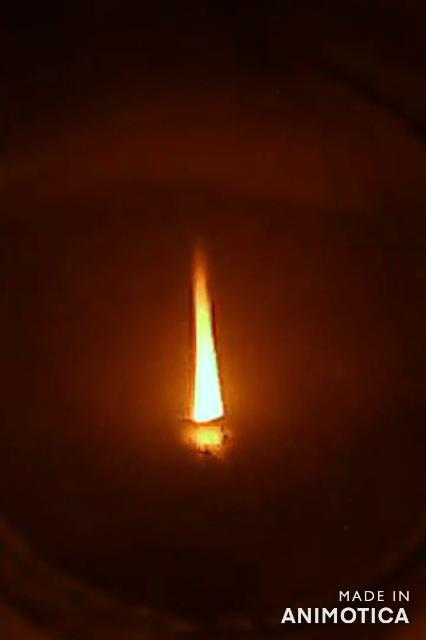burner flame: (188, 237, 228, 425)
